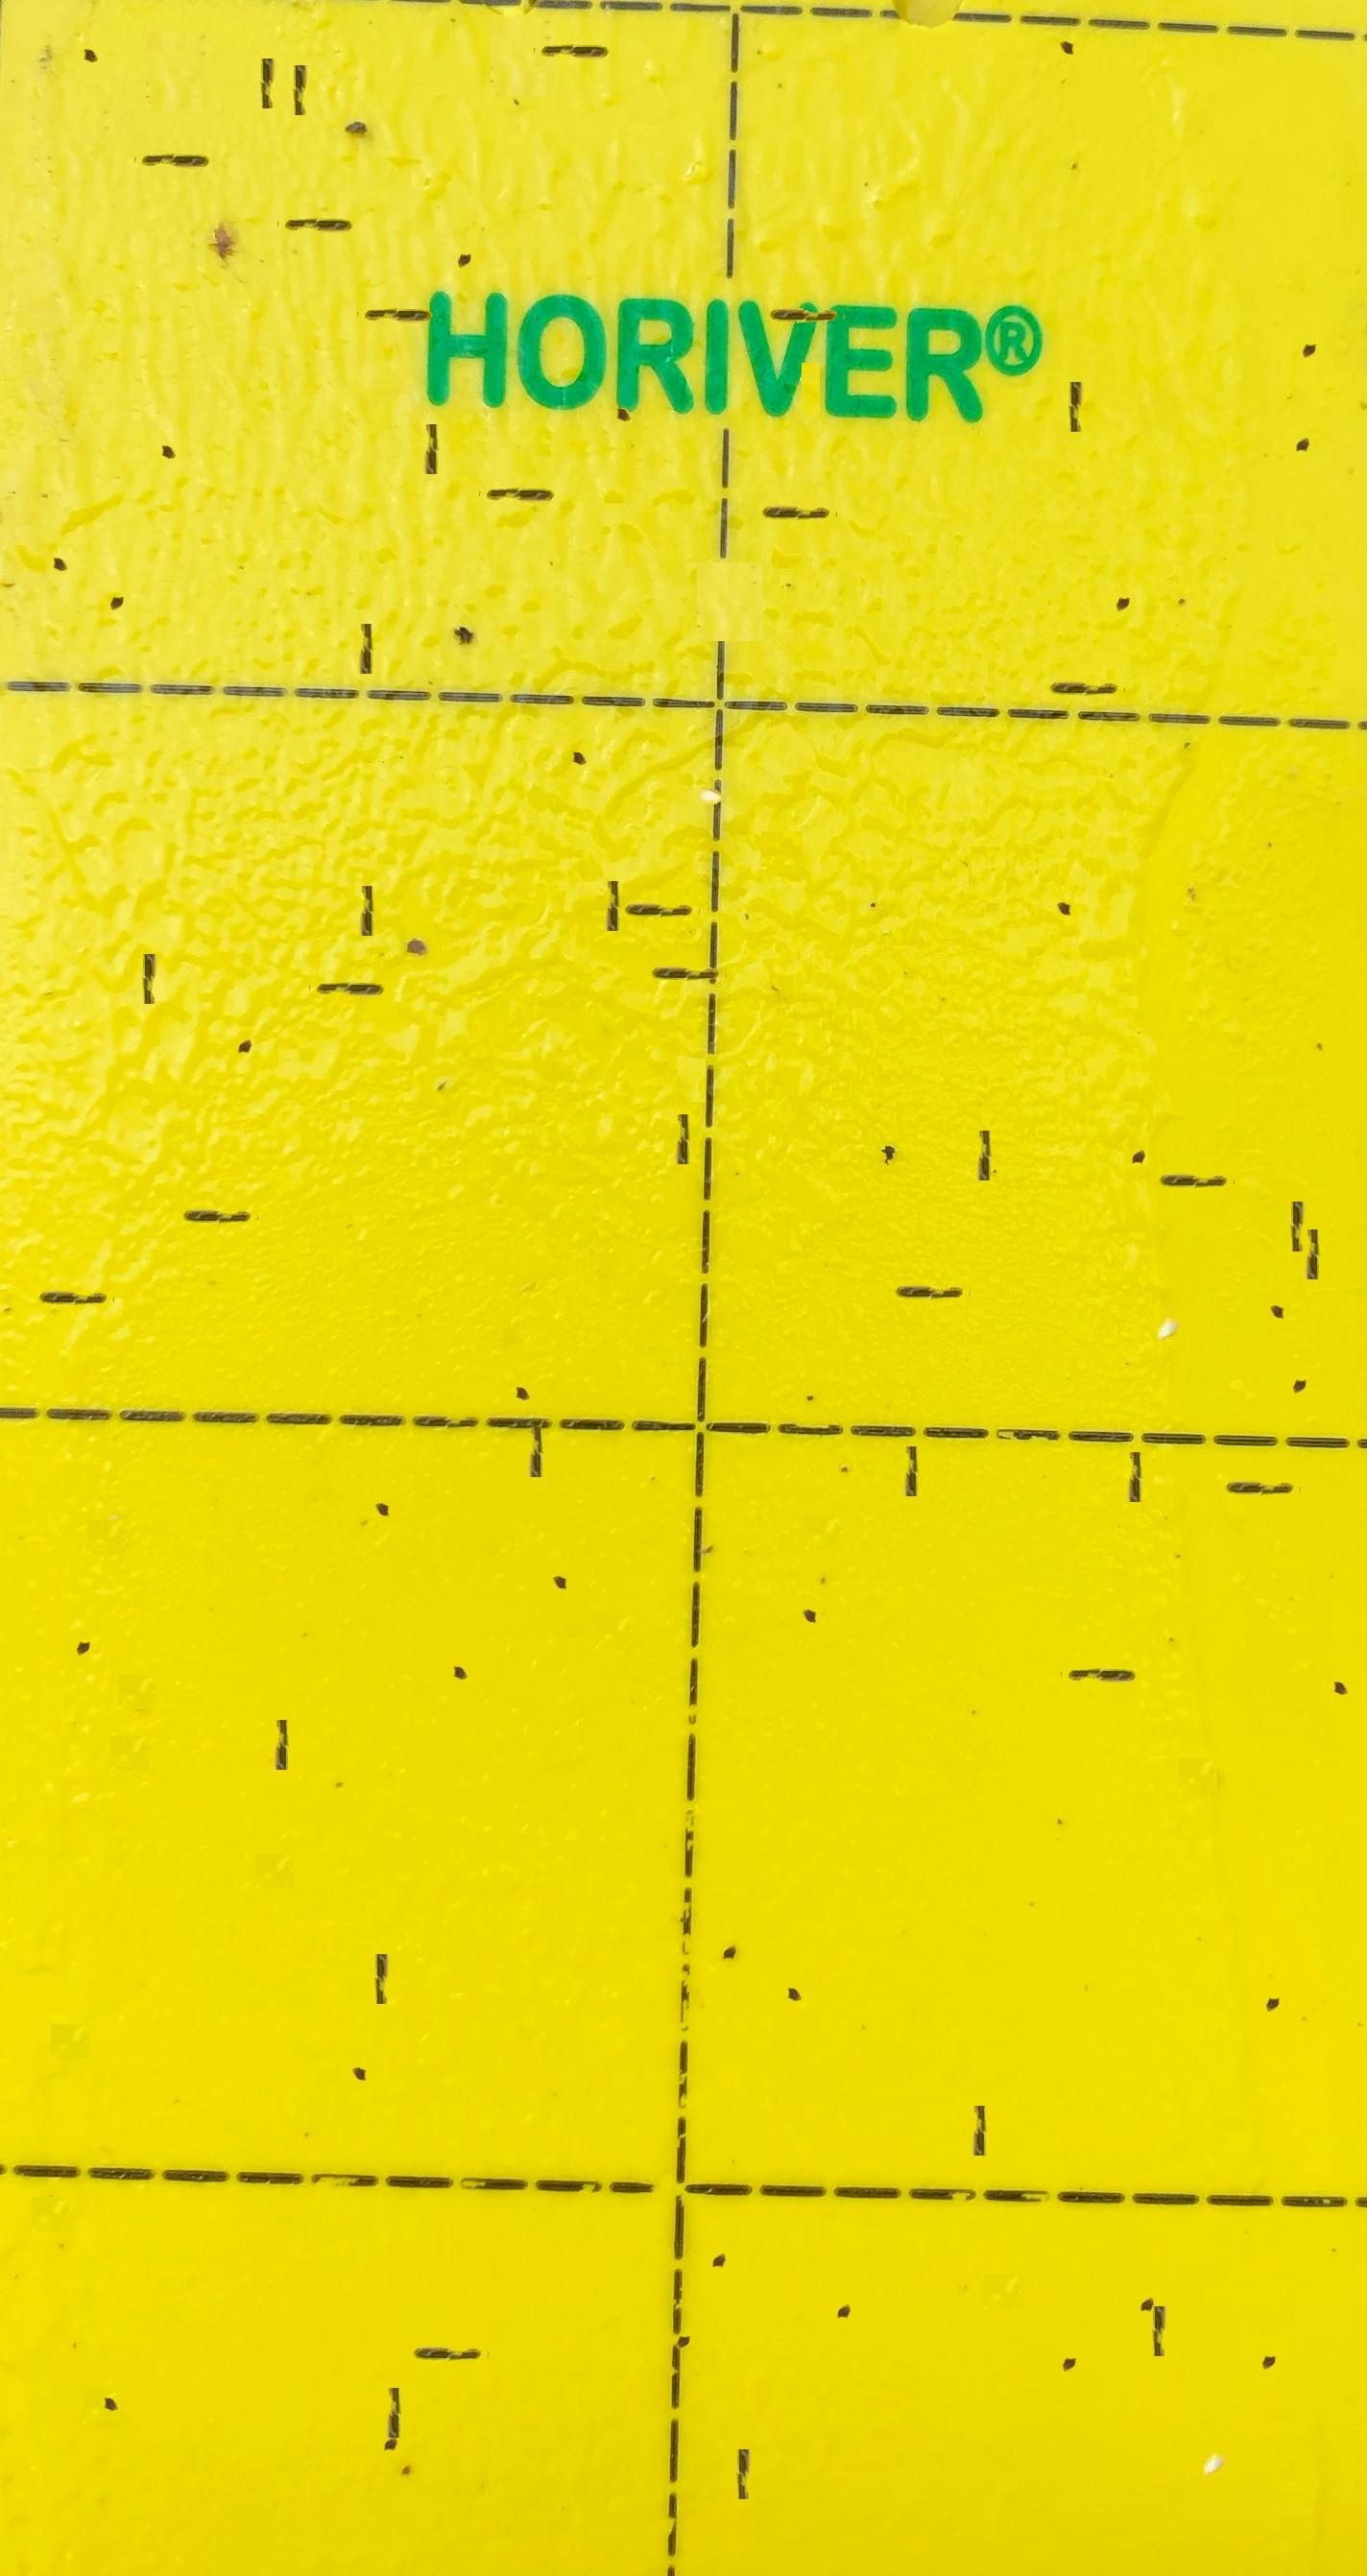white_fly: (1147, 1262, 1190, 1307), (1193, 2399, 1236, 2441), (689, 738, 730, 775)
